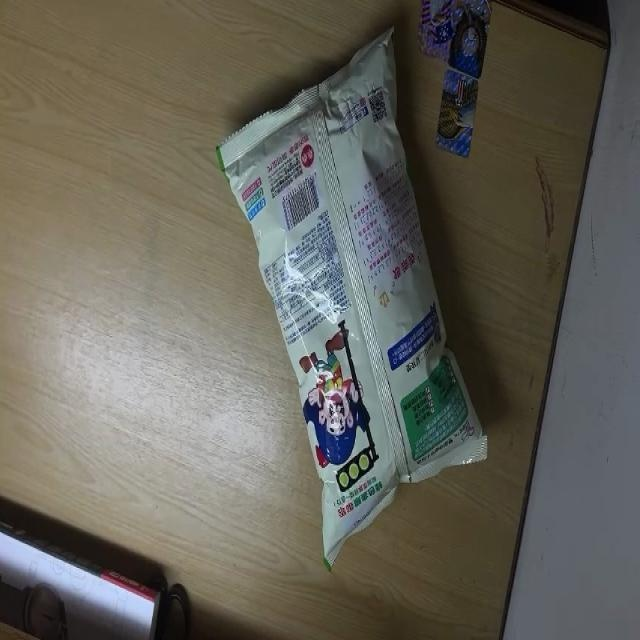Good-Luck: (216, 20, 491, 570)
